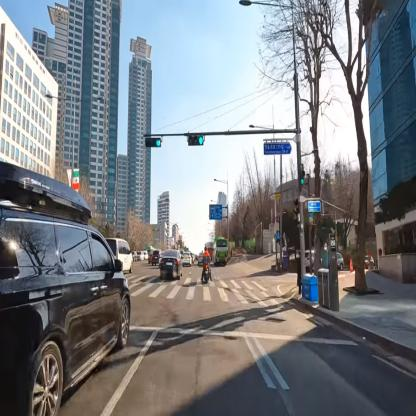Green: (186, 134, 206, 146), (145, 134, 162, 148)
